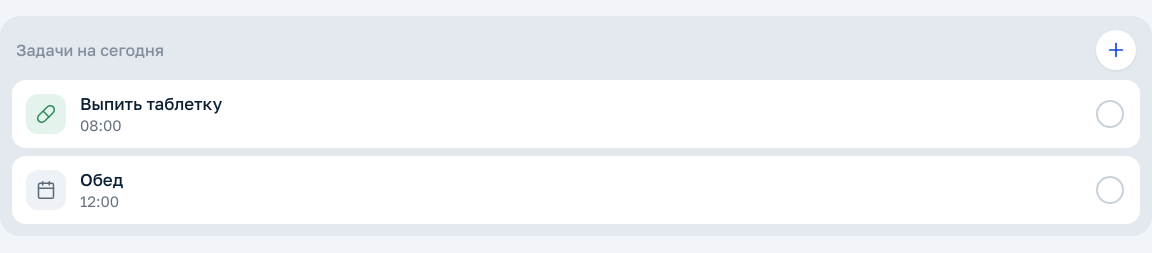
Test: TodayTasks › отмеченная задача исчезает через 5 секунд
Later steps or results of the test are not shown.
What coordinates should you click on to do the following:
click the button named "Отметить выполненной: Выпить таблетку"
I would click on:
 (1110, 114)
Its box is [1086,90,1134,138].
Wait 5100 ms
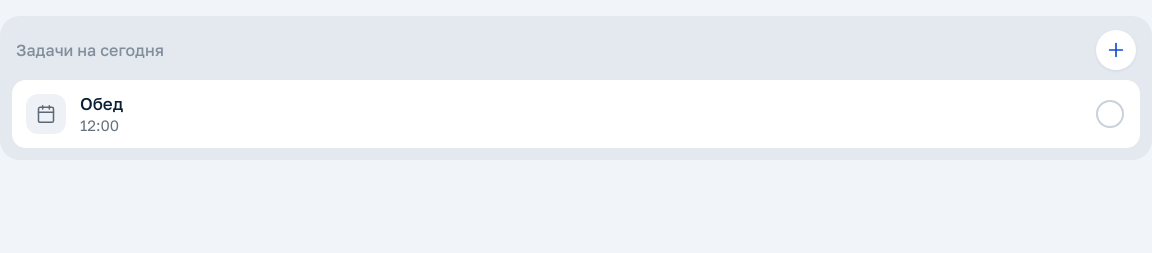
Check: the text "Обед" is shown, box [80,93,123,114]
Check: the text "Выпить таблетку" is gone
